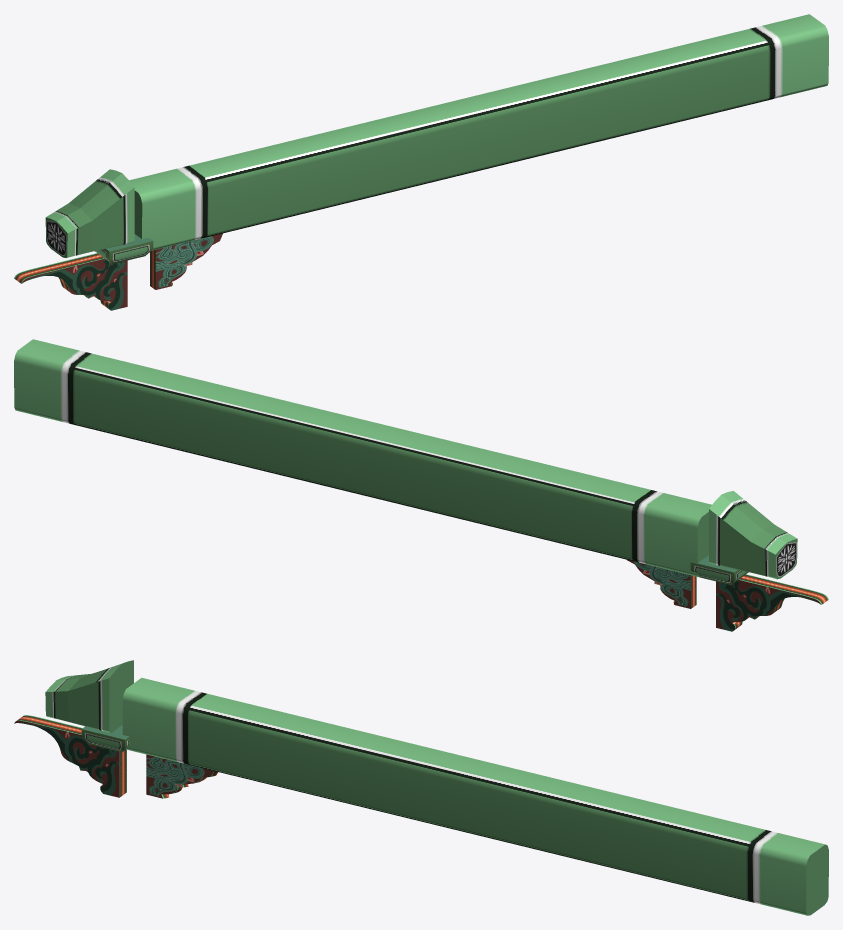
File: SM_R_Beam_16.fbx
3 renders of one model, top to bottom at view 1: azimuth 30°, elevation 25°; view 2: azimuth 150°, elevation 25°; view 3: azimuth 330°, elevation 25°, orthographic.
Parts seen in each view (by area): view 1: SM_R_Beam_16; view 2: SM_R_Beam_16; view 3: SM_R_Beam_16.
Part boxes in pixels (left/top/right/bottom): SM_R_Beam_16: left=14, top=14, right=828, bottom=310; SM_R_Beam_16: left=14, top=339, right=828, bottom=631; SM_R_Beam_16: left=14, top=660, right=828, bottom=915.
Size of the model in its own units: 557 by 32.84 by 87.18.
3 materials, 3 textured.
